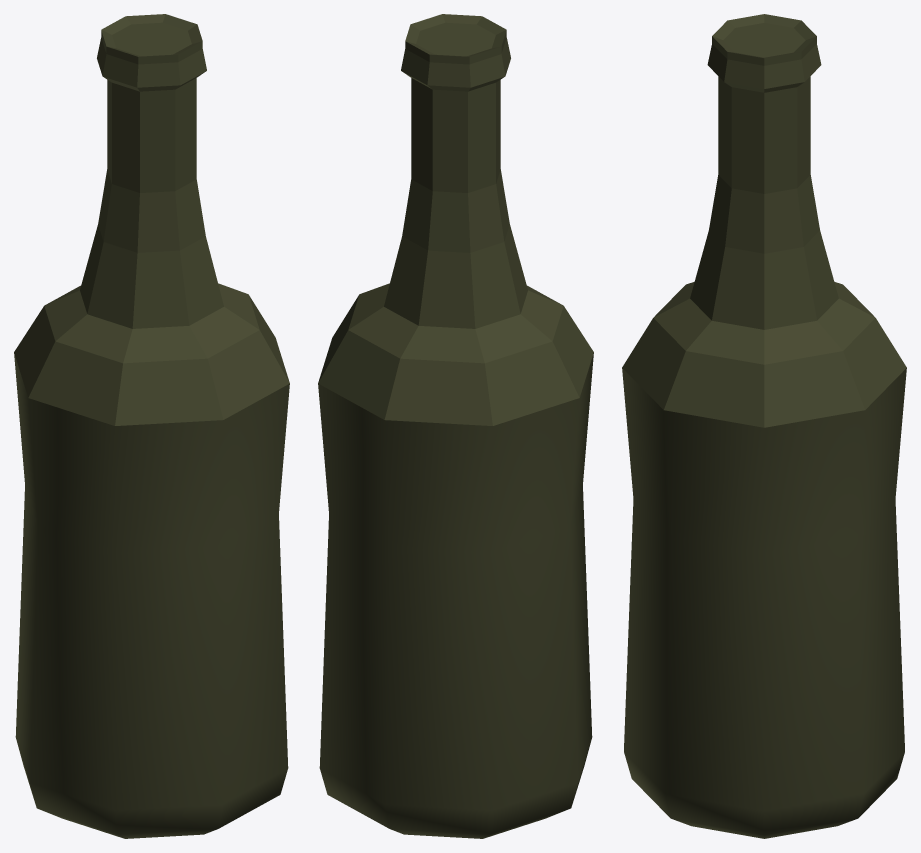
The model's file is SM_beer_glass_03.fbx.
3 views of the same model, side by side, from view 1: azimuth 30°, elevation 25°; view 2: azimuth 150°, elevation 25°; view 3: azimuth 270°, elevation 25° (orthographic).
Visible parts, largest first — view 1: beer_glass_03; view 2: beer_glass_03; view 3: beer_glass_03.
Part boxes in pixels (left/top/right/bottom): beer_glass_03: left=14, top=14, right=289, bottom=838; beer_glass_03: left=318, top=14, right=593, bottom=838; beer_glass_03: left=622, top=14, right=906, bottom=838.
Size of the model in its own units: 16.98 by 49.93 by 16.98.
